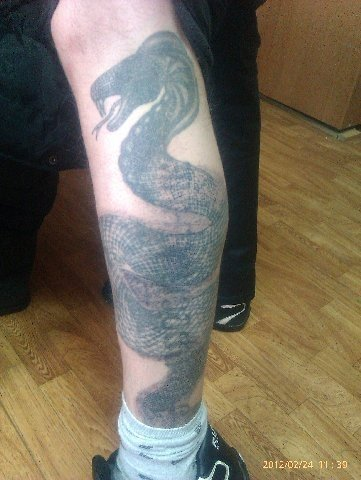tatu7_zmeya: (50, 19, 234, 421)
